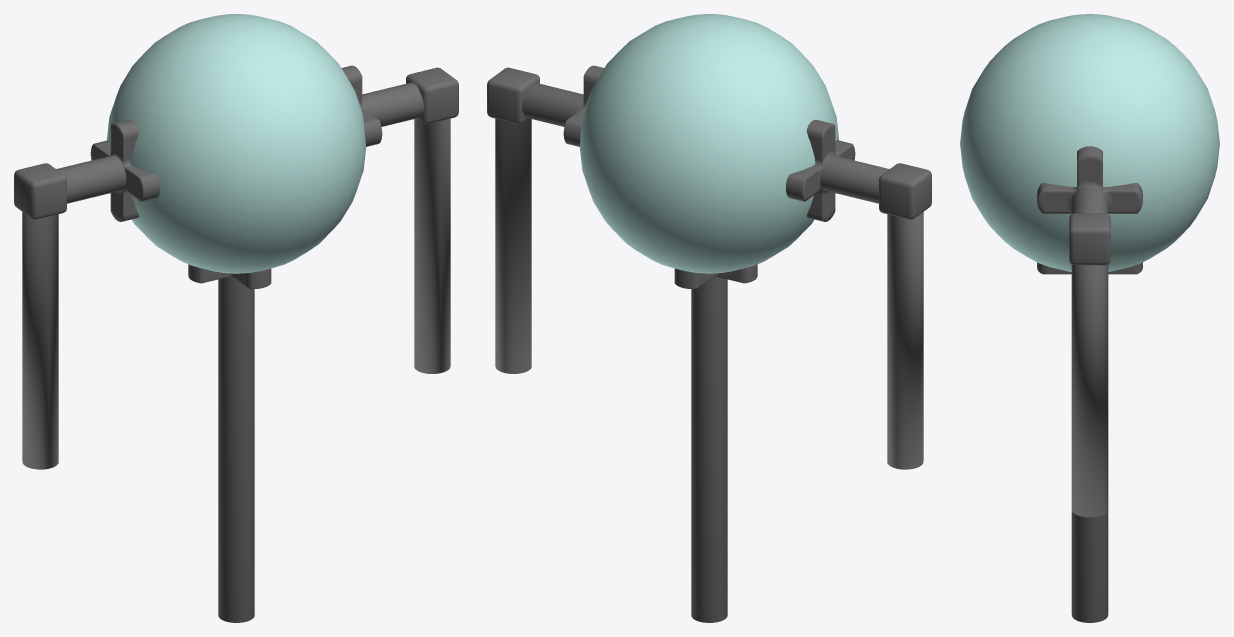
The model's file is MathPBL_2025_Tubes.fbx.
The picture shows the model from 3 angles, left to right: view 1: azimuth 30°, elevation 25°; view 2: azimuth 150°, elevation 25°; view 3: azimuth 270°, elevation 25°; orthographic projection.
Parts seen in each view (by area): view 1: Sphere, TubeRight, TubeDown, TubeLeft, Cube.001, Cube.002; view 2: Sphere, TubeRight, TubeDown, TubeLeft, Cube.001, Cube.002; view 3: Sphere, TubeLeft, TubeDown, Cube.002.
Boxes of the visible parts, x1=… form: Sphere: x1=107, y1=14, x2=366, y2=273; TubeRight: x1=22, y1=119, x2=159, y2=469; TubeDown: x1=188, y1=264, x2=271, y2=622; TubeLeft: x1=341, y1=65, x2=450, y2=373; Cube.001: x1=14, y1=163, x2=66, y2=219; Cube.002: x1=406, y1=67, x2=458, y2=123; Sphere: x1=579, y1=14, x2=838, y2=273; TubeRight: x1=786, y1=119, x2=923, y2=469; TubeDown: x1=674, y1=264, x2=757, y2=622; TubeLeft: x1=495, y1=65, x2=604, y2=373; Cube.001: x1=879, y1=163, x2=931, y2=219; Cube.002: x1=487, y1=67, x2=539, y2=123; Sphere: x1=960, y1=14, x2=1219, y2=271; TubeLeft: x1=1037, y1=146, x2=1142, y2=517; TubeDown: x1=1037, y1=262, x2=1142, y2=622; Cube.002: x1=1069, y1=213, x2=1110, y2=265.
Bounding box in the file's own units: 712 × 937 × 375.
